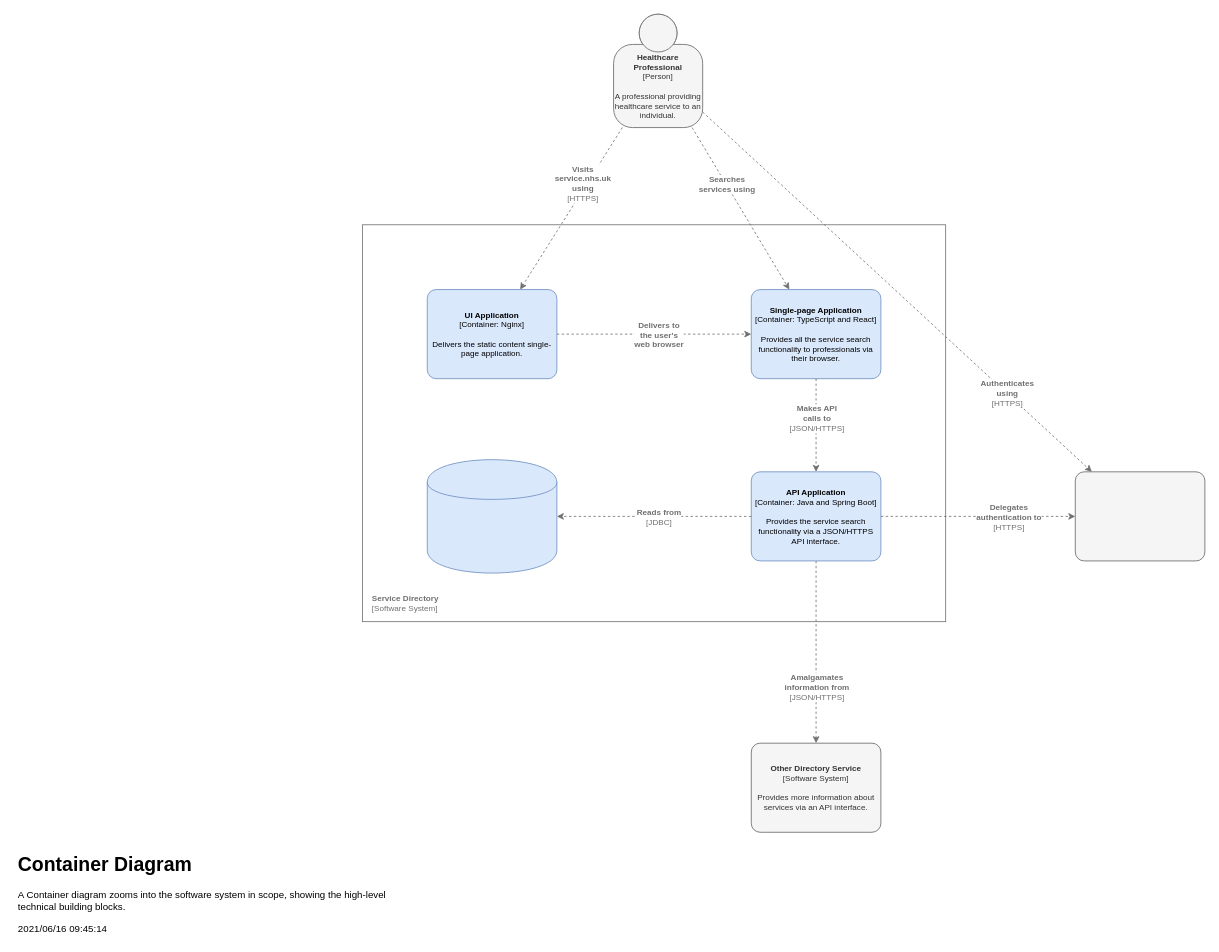
Some shapes in this 1219 by 952 pixel diagram are drawn without their labels. Here are the shapes that lost their labels. From the top down, the centre of each, then its label:
At (x=491, y=516): "Database [Container: PostgreSQL] Stores service demographics information.".
At (x=1139, y=516): "Authentication Service [Software System] Provides identity information.".
